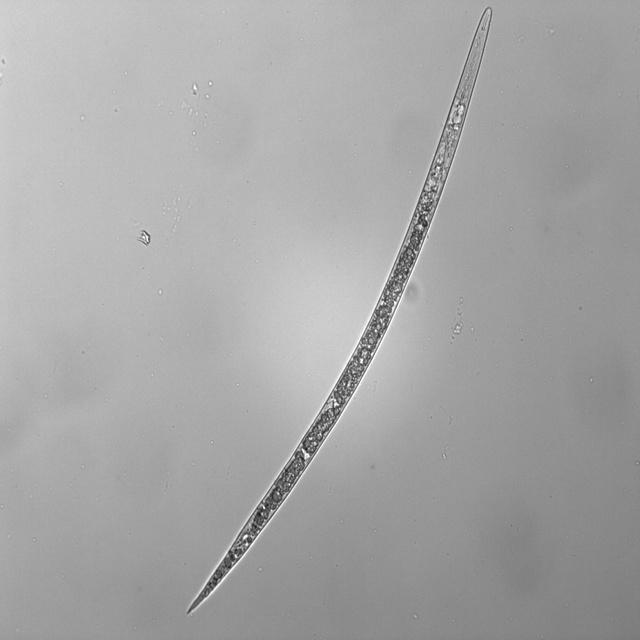Meloidogyne: (178, 1, 497, 621)
